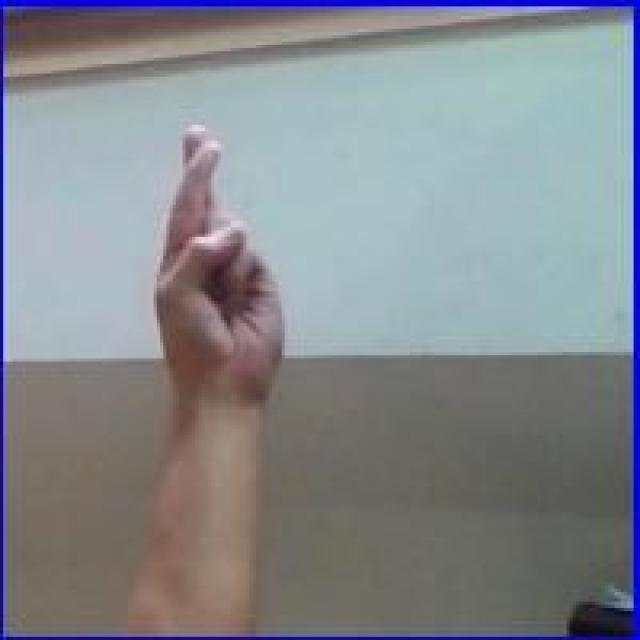R: (146, 120, 292, 408)
